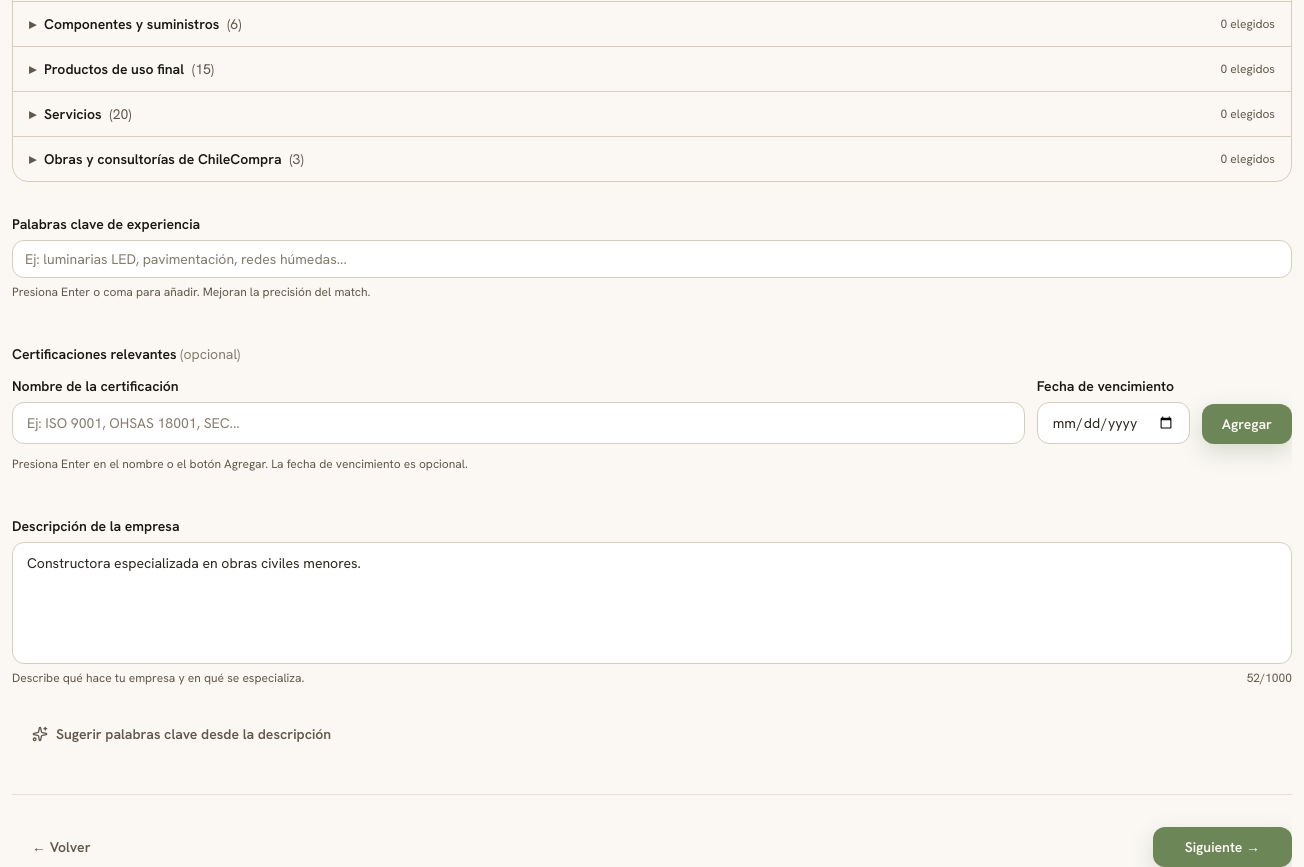
Scenario: Step3Specialization (sugerir desde la descripción) › muestra un error legible si la petición falla y deja reintentar
This screenshot has width=1304, height=867.
(page scrolled)
Click the button "Sugerir palabras clave desde la descripción" at (182, 734), box [12,714,351,754]
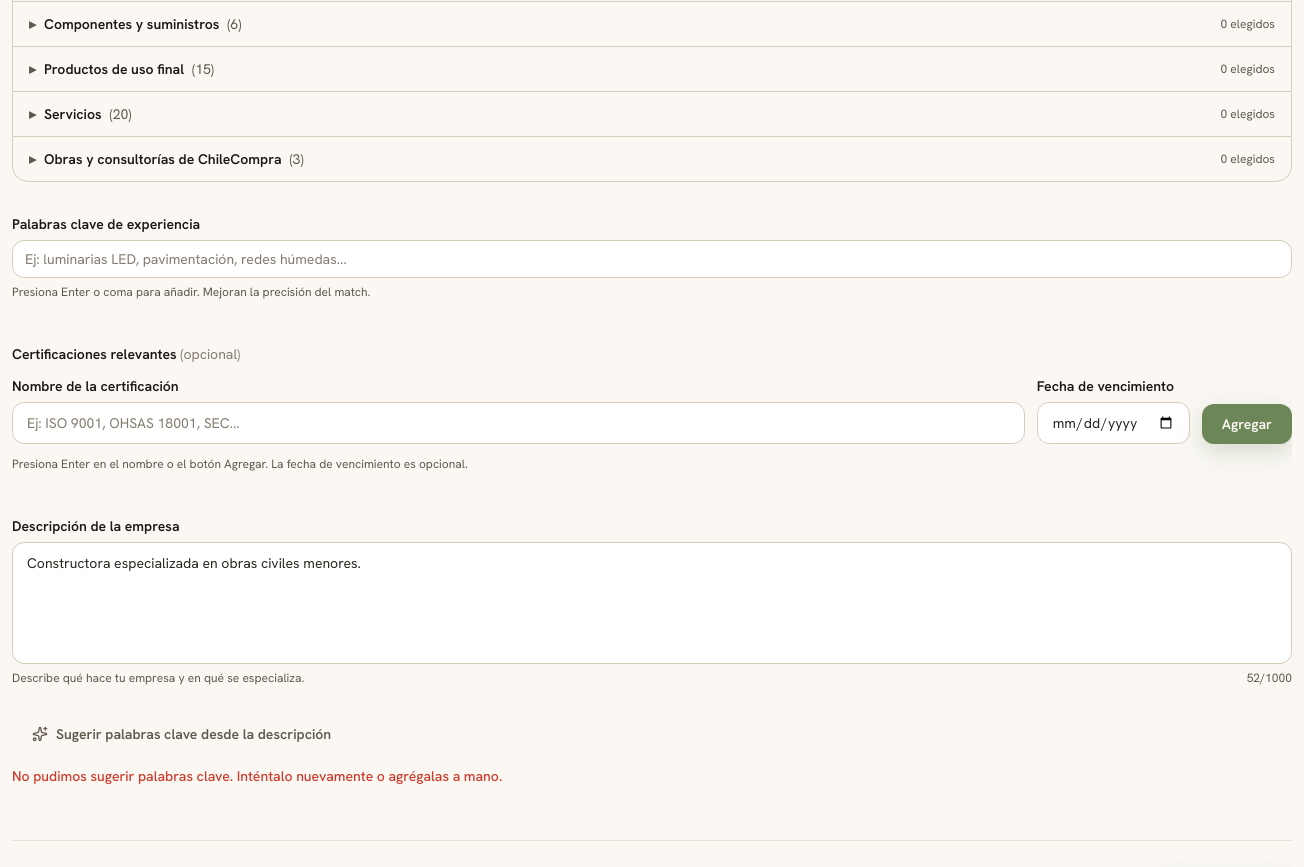
Now the message reads "No pudimos sugerir palabras clave. Inténtalo nuevamente o agrégalas a mano.", box [12,767,502,785]
